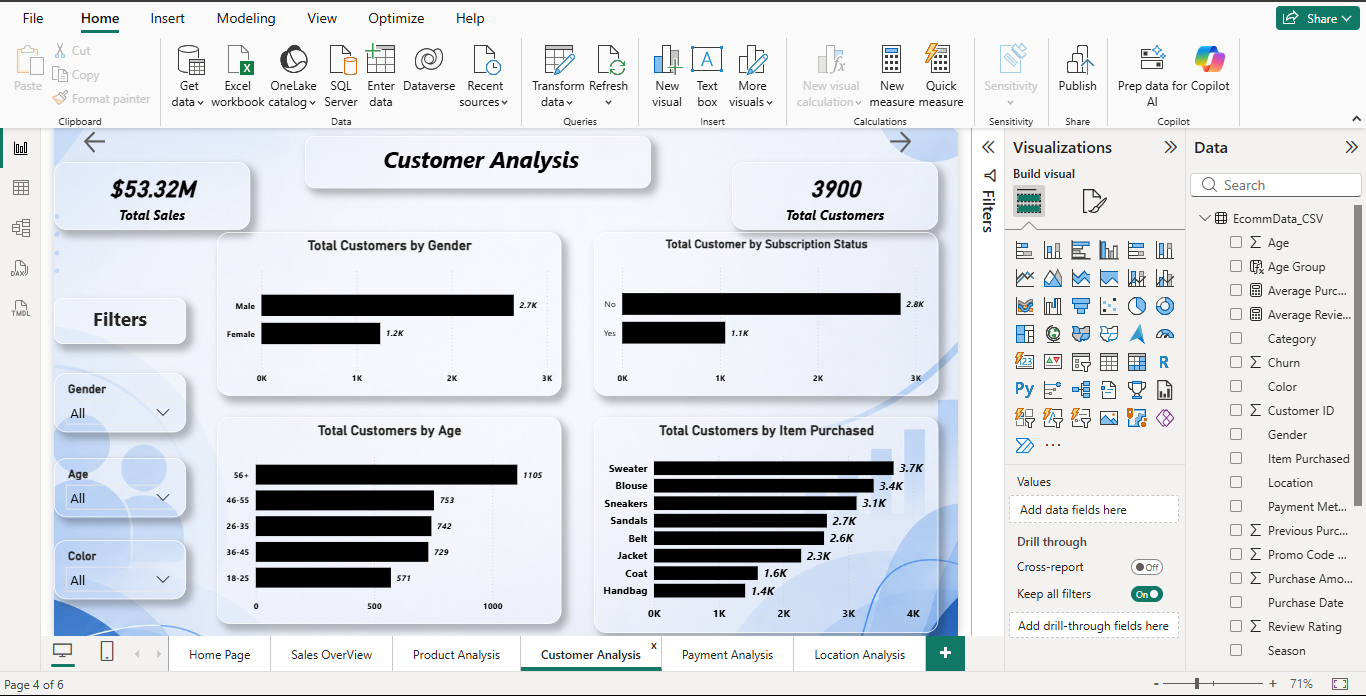

This screenshot's page, from the dashboard's own definition file:
{"tool":"powerbi","page":{"name":"Customer Analysis","canvas":[1280,720],"ordinal":3},"visuals":[{"type":"card","fields":{"Values":["EcommData_CSV.Total Sales"]},"box":[0,48.2,277.8,96.4],"z":0},{"type":"textbox","box":[355.7,11.3,490.4,73.7],"z":1000},{"type":"card","fields":{"Values":["EcommData_CSV.Total Customers"]},"box":[960.9,48.2,292,96.4],"z":2000},{"type":"clusteredBarChart","title":"Total Customer by Subscription Status","fields":{"Category":["EcommData_CSV.Subscription Status"],"Y":["EcommData_CSV.Total Customers"]},"box":[765.4,147.4,487.6,232.4],"z":3000},{"type":"clusteredBarChart","title":"Total  Customers by Gender","fields":{"Y":["EcommData_CSV.Total Customers"],"Category":["EcommData_CSV.Gender"]},"box":[231,147.4,487.6,232.4],"z":4000},{"type":"clusteredBarChart","title":"Total Customers by Age","fields":{"Y":["EcommData_CSV.Total Customers"],"Category":["EcommData_CSV.Age Group"]},"box":[231,409.6,487.6,293.4],"z":5000},{"type":"clusteredBarChart","title":"Total Customers by Item Purchased","fields":{"Category":["EcommData_CSV.Item Purchased"],"Y":["EcommData_CSV.Total Customers"]},"box":[765.4,409.6,487.6,306.1],"z":6000},{"type":"slicer","title":"Total Sales by Item Purchased","fields":{"Values":["EcommData_CSV.Age"]},"box":[0,467.7,187.1,83.6],"z":7000},{"type":"slicer","title":"Total Sales by Item Purchased","fields":{"Values":["EcommData_CSV.Gender"]},"box":[0,347.2,187.1,83.6],"z":8000},{"type":"slicer","title":"Total Sales by Item Purchased","fields":{"Values":["EcommData_CSV.Color"]},"box":[0,583.9,187.1,83.6],"z":9000},{"type":"textbox","box":[0,240.9,187.1,65.2],"z":10000},{"type":"actionButton","box":[38.3,0,100,40],"z":11000},{"type":"actionButton","box":[1179.2,0,100,40],"z":12000}]}

Visuals, with their boxes on the page's 1280x720 design canvas (x1, y1, x2, y2). These are canvas units, not pixel positions in the 1366x696 screenshot, which may show the page scaled, cropped or inside an application window:
card - EcommData_CSV.Total Sales: pyautogui.locateOnScreen(0, 48, 278, 145)
textbox: pyautogui.locateOnScreen(356, 11, 846, 85)
card - EcommData_CSV.Total Customers: pyautogui.locateOnScreen(961, 48, 1253, 145)
"Total Customer by Subscription Status" clusteredBarChart: pyautogui.locateOnScreen(765, 147, 1253, 380)
"Total  Customers by Gender" clusteredBarChart: pyautogui.locateOnScreen(231, 147, 719, 380)
"Total Customers by Age" clusteredBarChart: pyautogui.locateOnScreen(231, 410, 719, 703)
"Total Customers by Item Purchased" clusteredBarChart: pyautogui.locateOnScreen(765, 410, 1253, 716)
"Total Sales by Item Purchased" slicer: pyautogui.locateOnScreen(0, 468, 187, 551)
"Total Sales by Item Purchased" slicer: pyautogui.locateOnScreen(0, 347, 187, 431)
"Total Sales by Item Purchased" slicer: pyautogui.locateOnScreen(0, 584, 187, 668)
textbox: pyautogui.locateOnScreen(0, 241, 187, 306)
actionButton: pyautogui.locateOnScreen(38, 0, 138, 40)
actionButton: pyautogui.locateOnScreen(1179, 0, 1279, 40)
